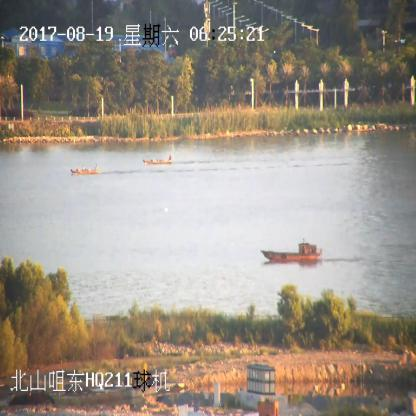Fishing Boat: (261, 242, 322, 262), (72, 163, 100, 175), (142, 156, 172, 166)
